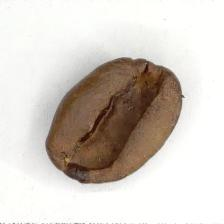NG: (73, 78, 161, 166)
